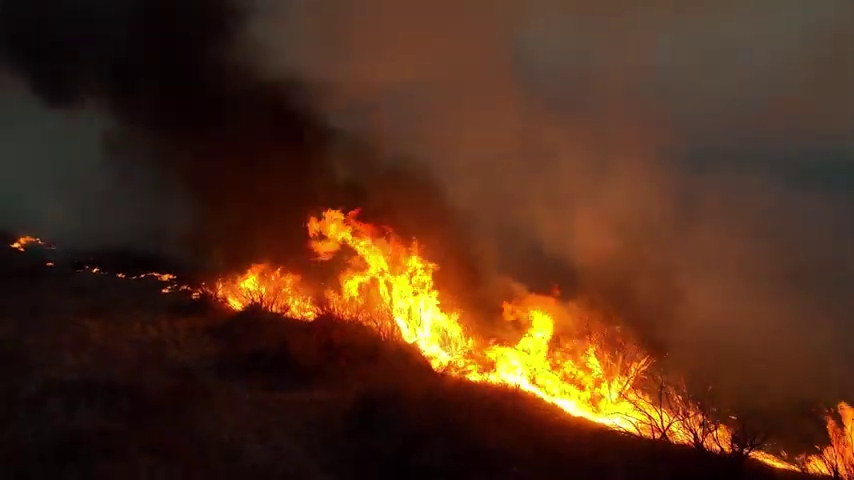forest_fire: (214, 210, 735, 452), (748, 402, 853, 479), (10, 236, 44, 250)
